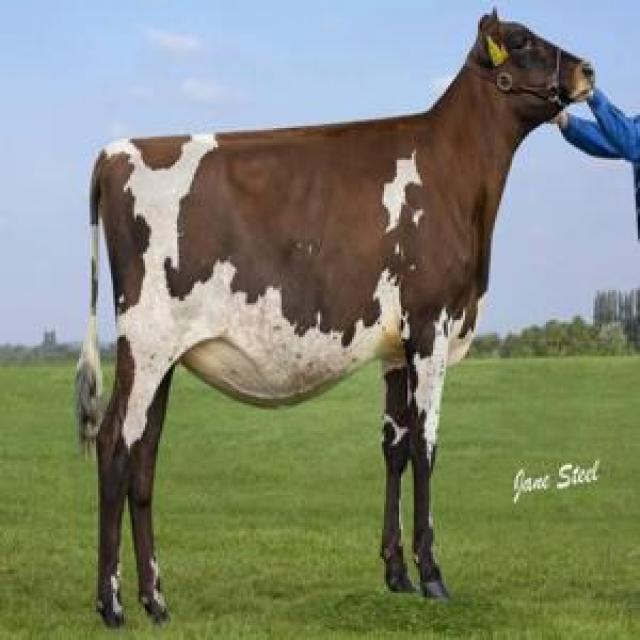cow: (79, 14, 594, 624)
